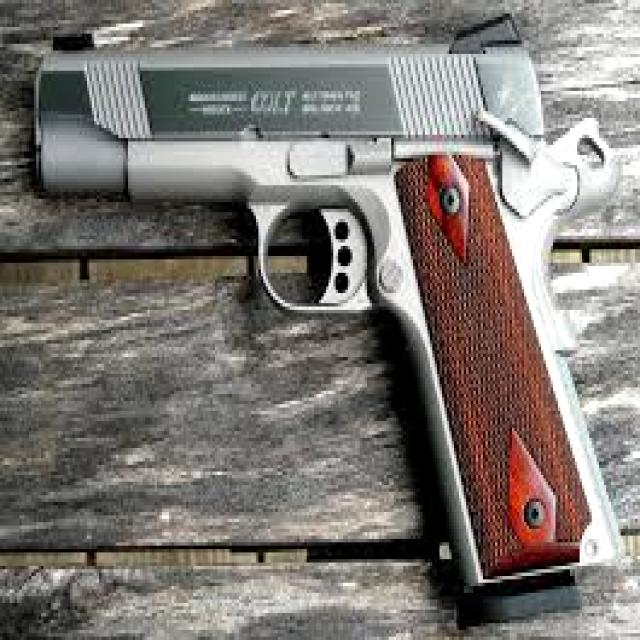semi automatic: (24, 15, 632, 626)
